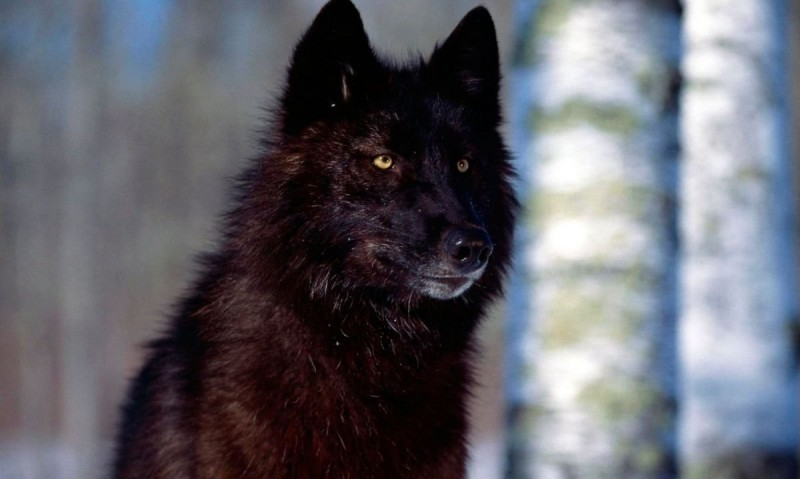Lobo: (198, 8, 526, 442)
